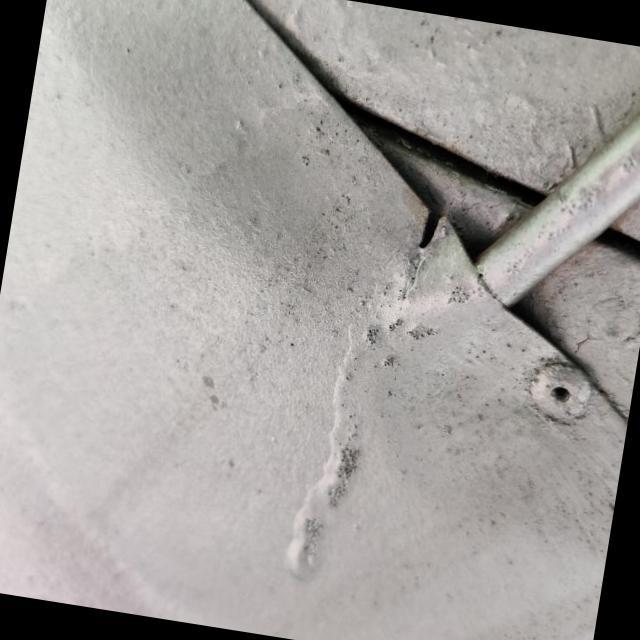Rupture: (394, 189, 465, 270)
